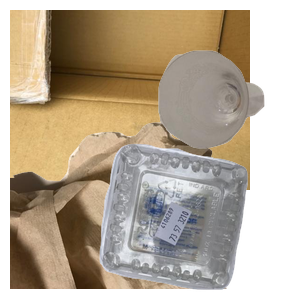cardboard: (10, 10, 250, 190)
glass: (156, 48, 300, 189)
plastic: (97, 141, 300, 300)
trash: (10, 120, 229, 300)
